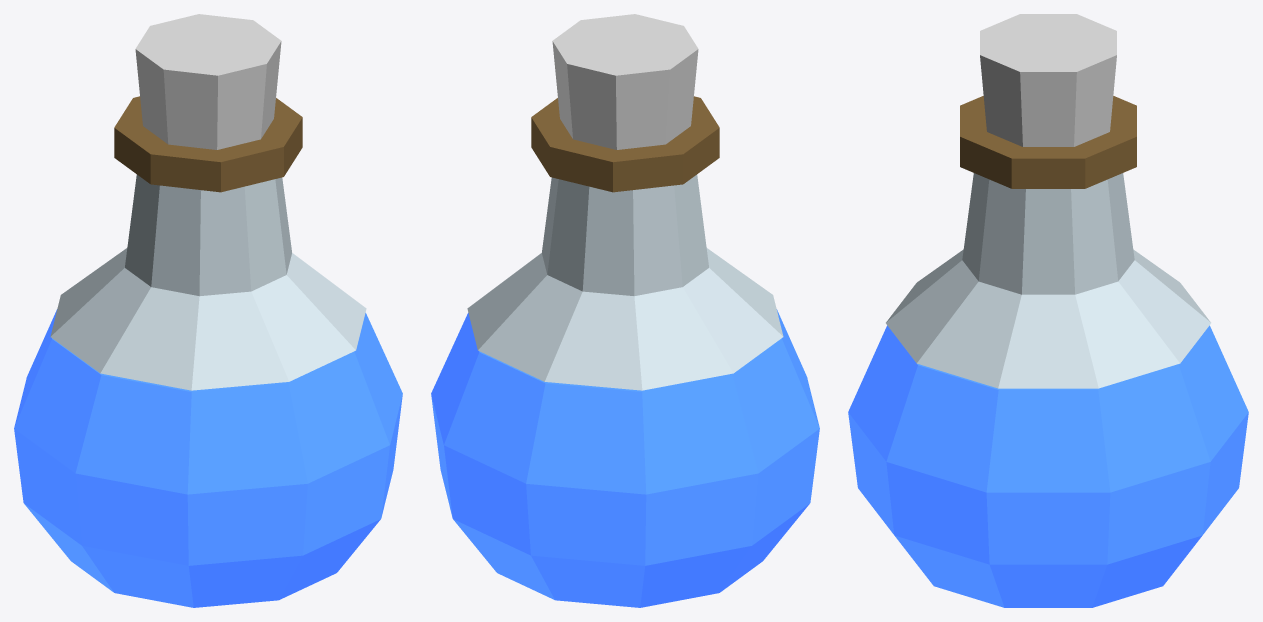
The model's file is loot_potion_mana.glb.
3 renders of one model, left to right at view 1: azimuth 30°, elevation 25°; view 2: azimuth 150°, elevation 25°; view 3: azimuth 270°, elevation 25°, orthographic.
Parts seen in each view (by area): view 1: loot_potion_mana; view 2: loot_potion_mana; view 3: loot_potion_mana.
Part boxes in pixels (box(x1,y1,x2,y2)): loot_potion_mana: box(14, 14, 402, 607); loot_potion_mana: box(431, 14, 819, 607); loot_potion_mana: box(848, 14, 1248, 607).
Bounding box in the file's own units: 0.1591 × 0.238 × 0.1673.
